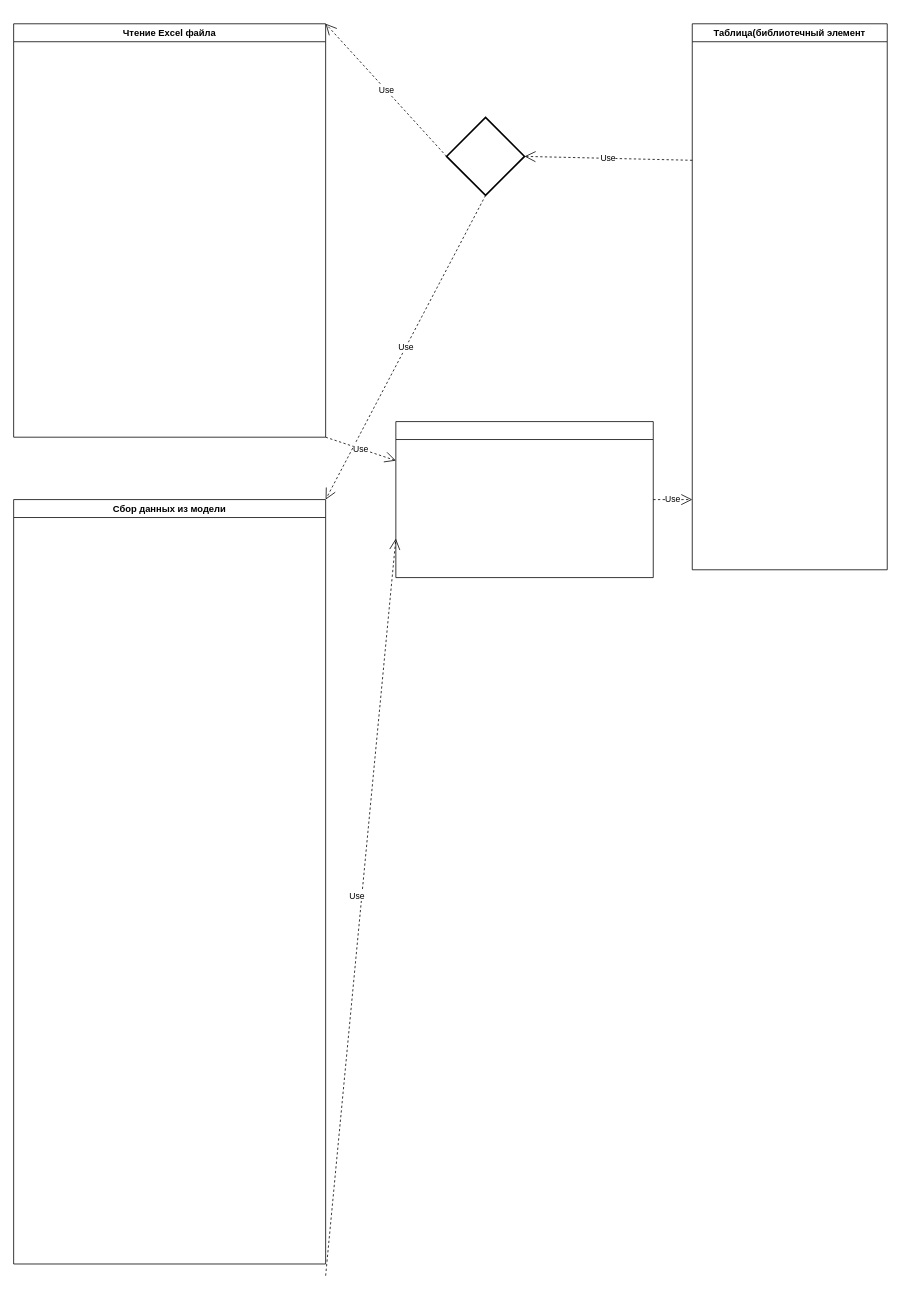
The diagram is 901 pixels wide and 1300 high, and some of its shapes have lost their labels. Each missing label, with the centre of its shape:
"Приведение данных к фромату выгрузки в билиотечный элемент" goes at [524,499].
"Связь с Эксель или Спец?" goes at [485,156].
